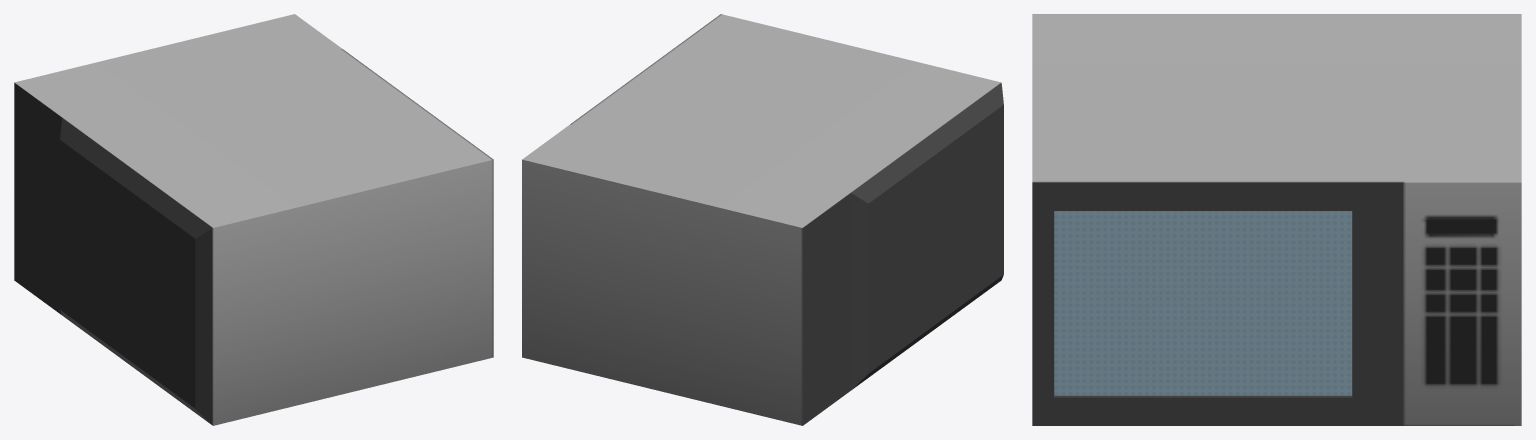
The model's file is Microwave.fbx.
The picture shows the model from 3 angles, left to right: view 1: azimuth 30°, elevation 25°; view 2: azimuth 150°, elevation 25°; view 3: azimuth 270°, elevation 25°; orthographic projection. The views are drawn at different scales.
Visible parts, largest first — view 1: Microwave; view 2: Microwave; view 3: Microwave.
Part boxes in pixels (<box>): Microwave: <box>14,14,493,425</box>; Microwave: <box>522,14,1003,425</box>; Microwave: <box>1032,14,1521,425</box>.
Bounding box in the file's own units: 1.1 × 0.7139 × 1.3.
Materials: 1 (1 with a texture image).
